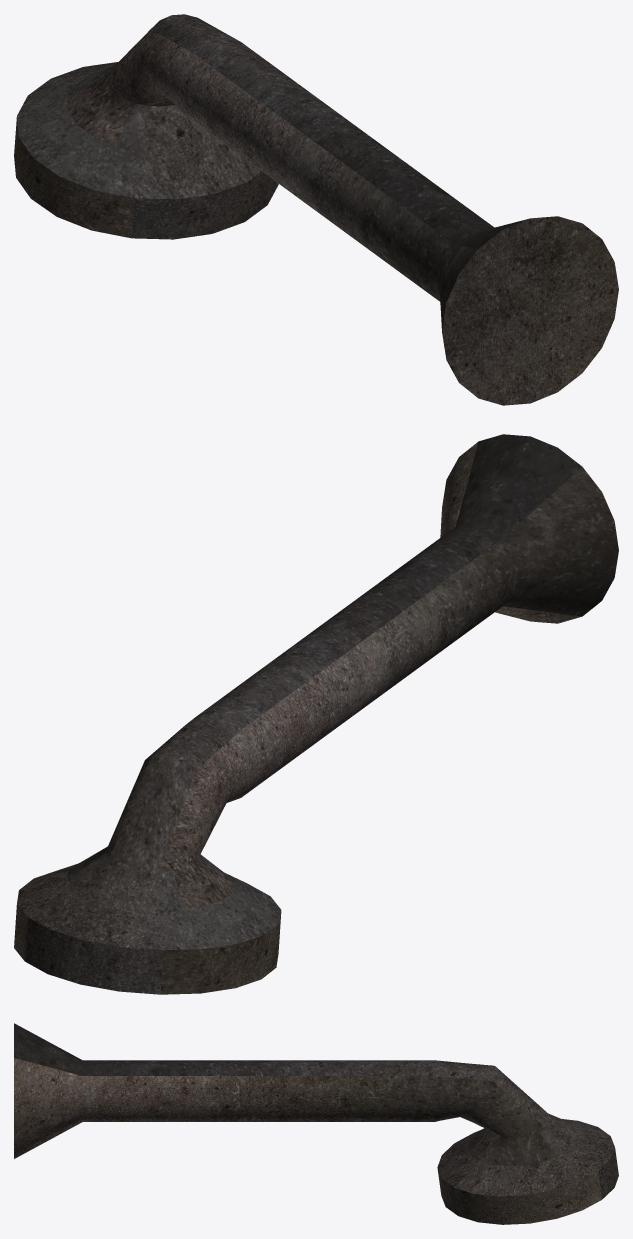
Rendered from ChuveiroRE1.fbx.
The picture shows the model from 3 angles, top to bottom: view 1: azimuth 30°, elevation 25°; view 2: azimuth 150°, elevation 25°; view 3: azimuth 270°, elevation 25°; orthographic projection. The views are drawn at different scales.
Visible parts, largest first — view 1: Chuveiro; view 2: Chuveiro; view 3: Chuveiro.
Boxes of the visible parts, left/top/right/bottom form: Chuveiro: left=14, top=14, right=618, bottom=405; Chuveiro: left=14, top=434, right=618, bottom=994; Chuveiro: left=14, top=1023, right=618, bottom=1224.
Size of the model in its own units: 0.0799 by 0.0821 by 0.2699.
Materials: 1 (1 with a texture image).
